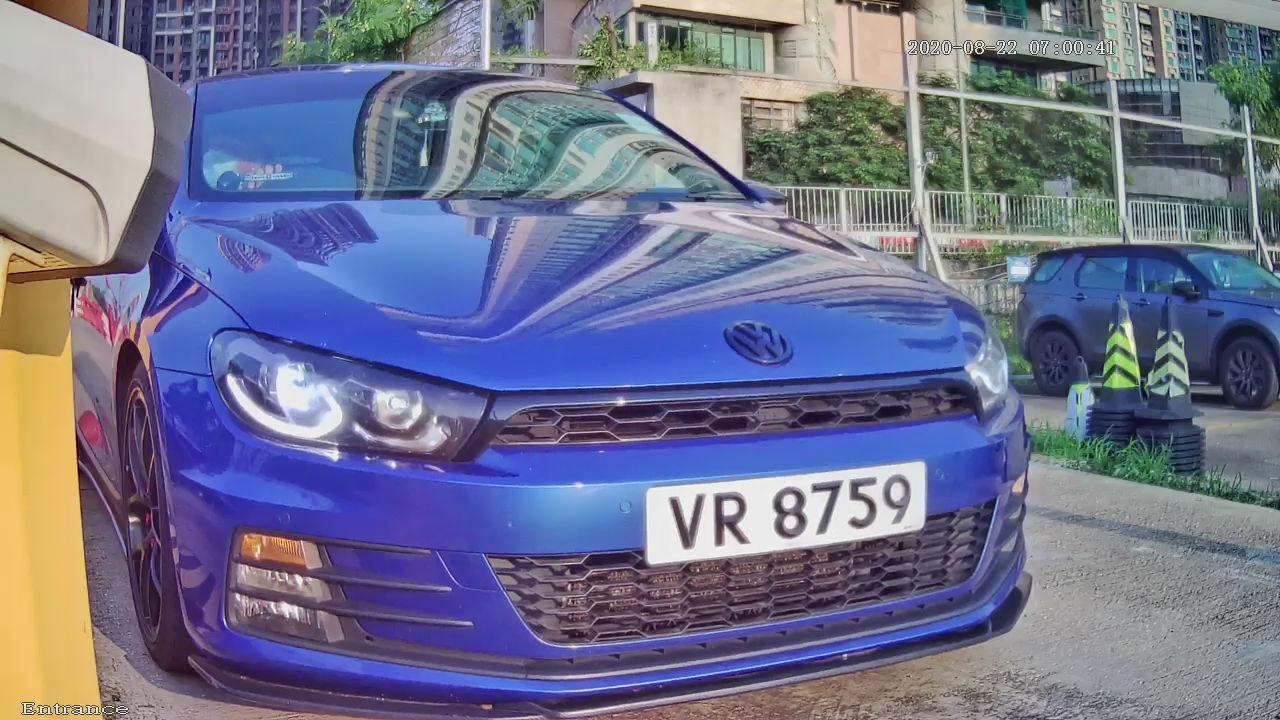Car: (35, 7, 1121, 720)
License Plate: (624, 448, 939, 577)
